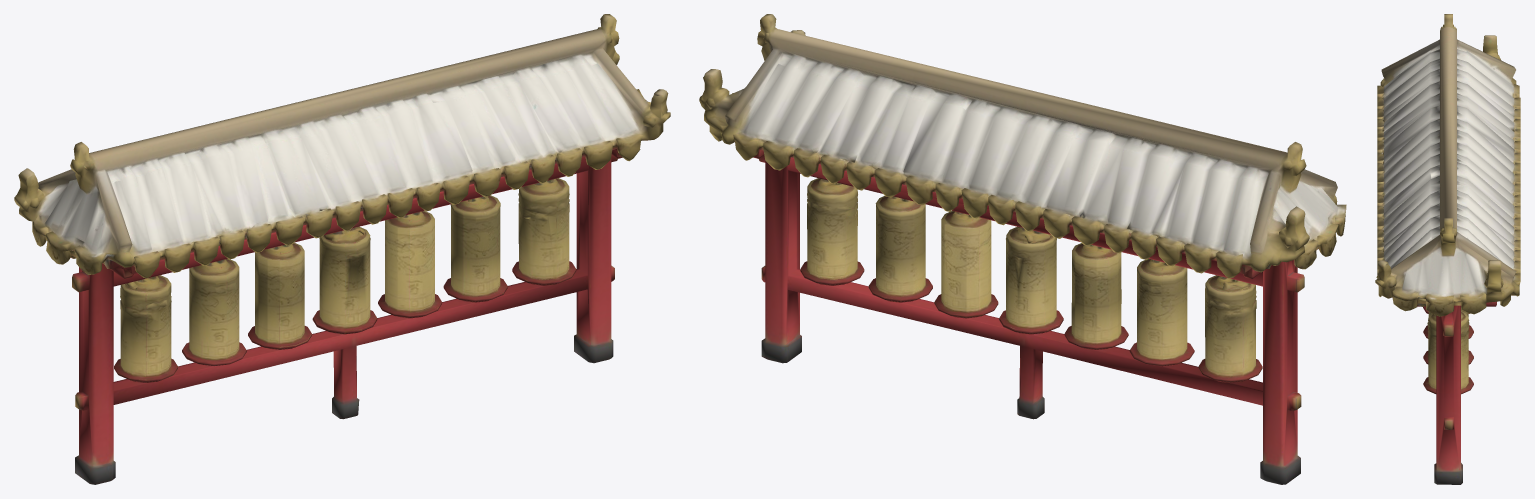
Rendered from prayer-wheels-mobile-v01.glb.
3 renders of one model, left to right at view 1: azimuth 30°, elevation 25°; view 2: azimuth 150°, elevation 25°; view 3: azimuth 270°, elevation 25°, orthographic. The views are drawn at different scales.
Visible parts, largest first — view 1: roof, frame, wheel_4, wheel_1, wheel_7, wheel_2, wheel_6, wheel_5, wheel_3; view 2: roof, frame, wheel_1, wheel_2, wheel_4, wheel_7, wheel_5, wheel_6, wheel_3; view 3: roof, frame, wheel_7.
Part boxes in pixels (bbox=[...]): roof: bbox=[14, 14, 670, 279]; frame: bbox=[71, 155, 617, 484]; wheel_4: bbox=[312, 226, 377, 334]; wheel_1: bbox=[114, 275, 177, 382]; wheel_7: bbox=[512, 178, 576, 285]; wheel_2: bbox=[182, 259, 246, 366]; wheel_6: bbox=[443, 195, 507, 302]; wheel_5: bbox=[378, 211, 441, 318]; wheel_3: bbox=[248, 242, 311, 349]; roof: bbox=[699, 14, 1346, 279]; frame: bbox=[759, 155, 1304, 484]; wheel_1: bbox=[1198, 275, 1262, 383]; wheel_2: bbox=[1129, 258, 1194, 366]; wheel_4: bbox=[999, 226, 1063, 334]; wheel_7: bbox=[800, 178, 864, 285]; wheel_5: bbox=[934, 211, 998, 318]; wheel_6: bbox=[868, 196, 932, 302]; wheel_3: bbox=[1064, 243, 1128, 349]; roof: bbox=[1375, 14, 1520, 316]; frame: bbox=[1434, 305, 1462, 484]; wheel_7: bbox=[1423, 311, 1473, 394].
Bounding box in the file's own units: 0.9778 × 0.5261 × 0.2583.
Materials: 1 (1 with a texture image).
